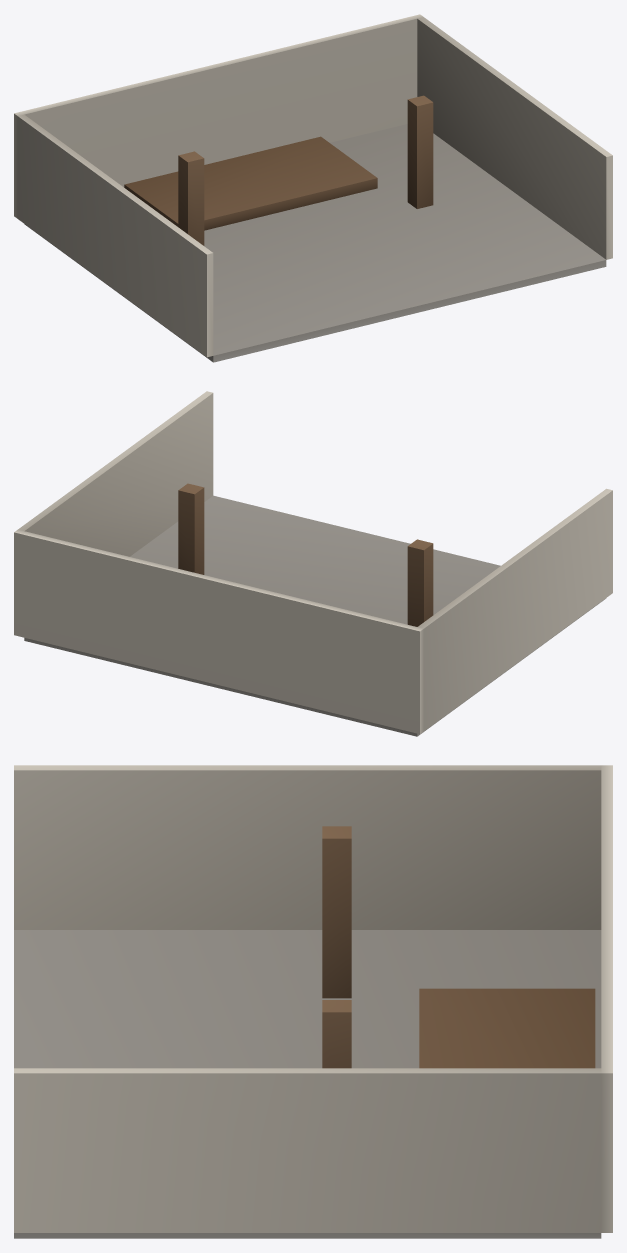
Rendered from hello_room.glb.
The picture shows the model from 3 angles, top to bottom: view 1: azimuth 30°, elevation 25°; view 2: azimuth 150°, elevation 25°; view 3: azimuth 270°, elevation 25°; orthographic projection. The views are drawn at different scales.
Parts seen in each view (by area): view 1: floor, wall_north, wall_west, wall_east, dais, pillar_e, pillar_w; view 2: wall_north, floor, wall_west, wall_east, pillar_e, pillar_w; view 3: wall_east, wall_west, floor, dais, wall_north, pillar_w, pillar_e.
Part boxes in pixels (x1,y1,x2,y2): floor: (24, 124, 606, 362); wall_north: (14, 14, 423, 218); wall_west: (17, 114, 213, 357); wall_east: (417, 17, 612, 259); dais: (124, 136, 377, 230); pillar_e: (407, 95, 433, 208); pillar_w: (178, 151, 204, 245); wall_north: (14, 529, 423, 733); floor: (24, 495, 606, 736); wall_west: (418, 488, 612, 730); wall_east: (18, 391, 213, 556); pillar_e: (178, 483, 204, 574); pillar_w: (407, 539, 433, 626); wall_east: (14, 1068, 601, 1232); wall_west: (14, 765, 601, 929); floor: (14, 930, 601, 1238); dais: (419, 988, 595, 1068); wall_north: (601, 765, 612, 1232); pillar_w: (322, 826, 351, 998); pillar_e: (322, 1000, 351, 1068).
Size of the model in its own units: 12.4 by 3.2 by 10.2.
